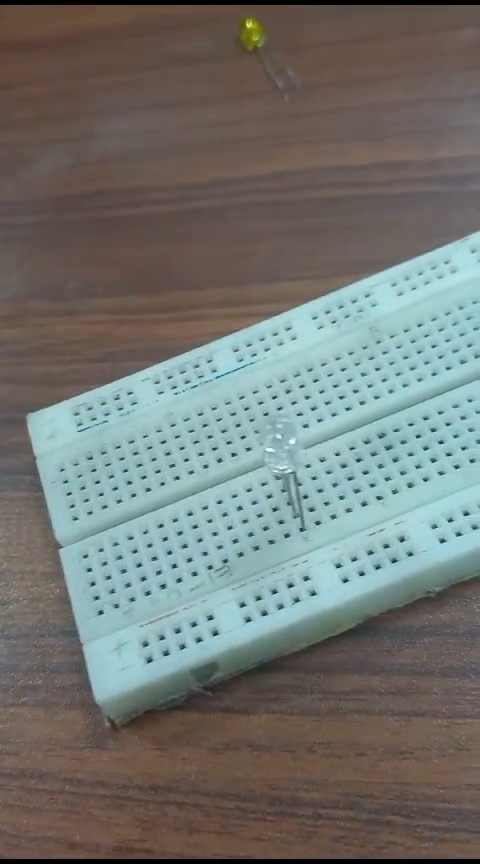LED: (242, 412, 324, 541)
